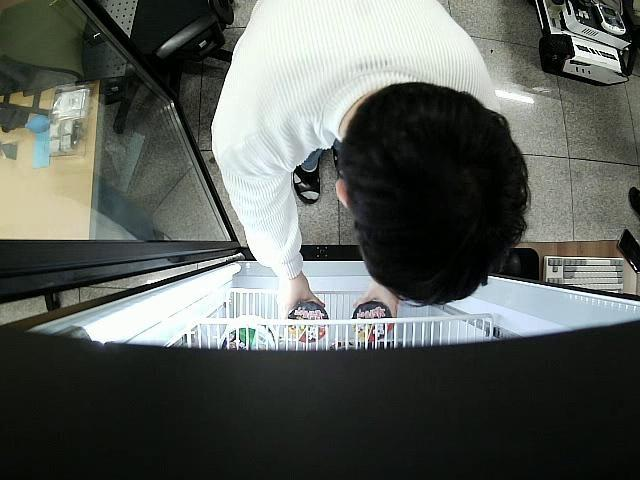08_buldak_S: (286, 302, 329, 342), (353, 301, 394, 340)
